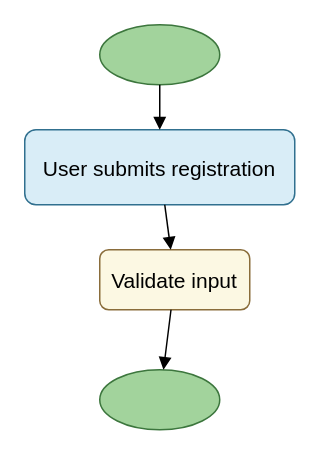
The diagram is 320 pixels wide and 455 high, and some of its shapes have lost their labels. Each missing label, with the centre of its shape:
"End" belongs at pixel 159 399.
"Start" belongs at pixel 159 54.
